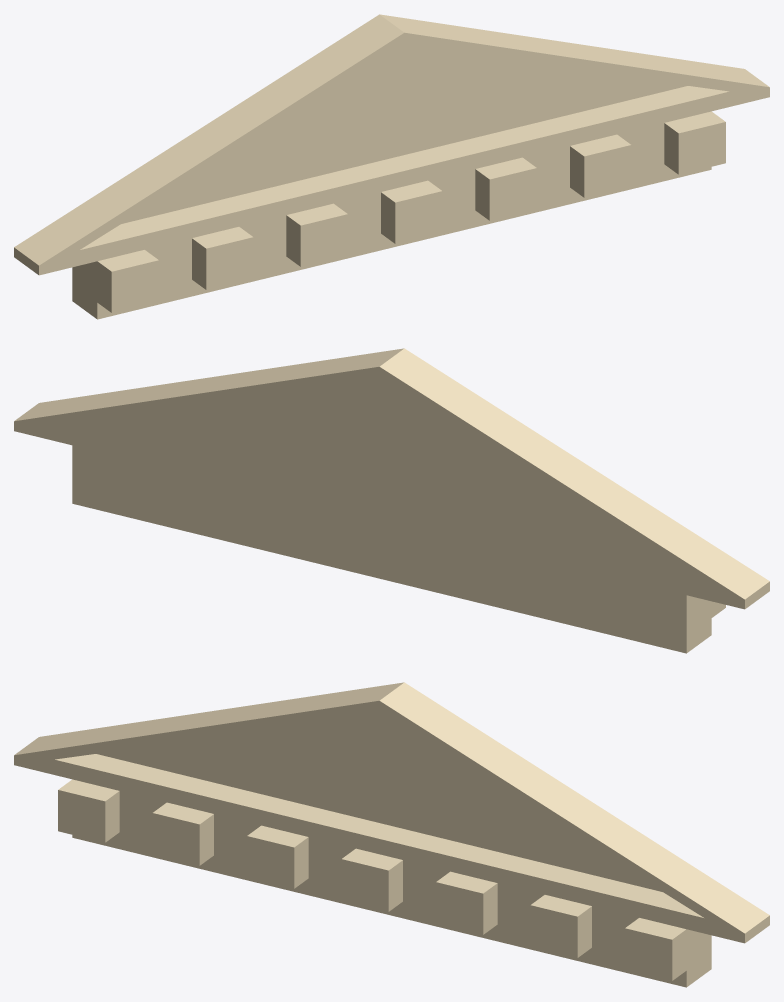
File: pediment.fbx
The picture shows the model from 3 angles, top to bottom: view 1: azimuth 30°, elevation 25°; view 2: azimuth 150°, elevation 25°; view 3: azimuth 330°, elevation 25°; orthographic projection.
Parts seen in each view (by area): view 1: pediment; view 2: pediment; view 3: pediment.
Boxes of the visible parts, left/top/right/bottom form: pediment: left=14, top=14, right=769, bottom=319; pediment: left=14, top=348, right=769, bottom=653; pediment: left=14, top=682, right=769, bottom=987.
Bounding box in the file's own units: 776 × 215 × 72.34.
Materials: 1 (1 with a texture image).
